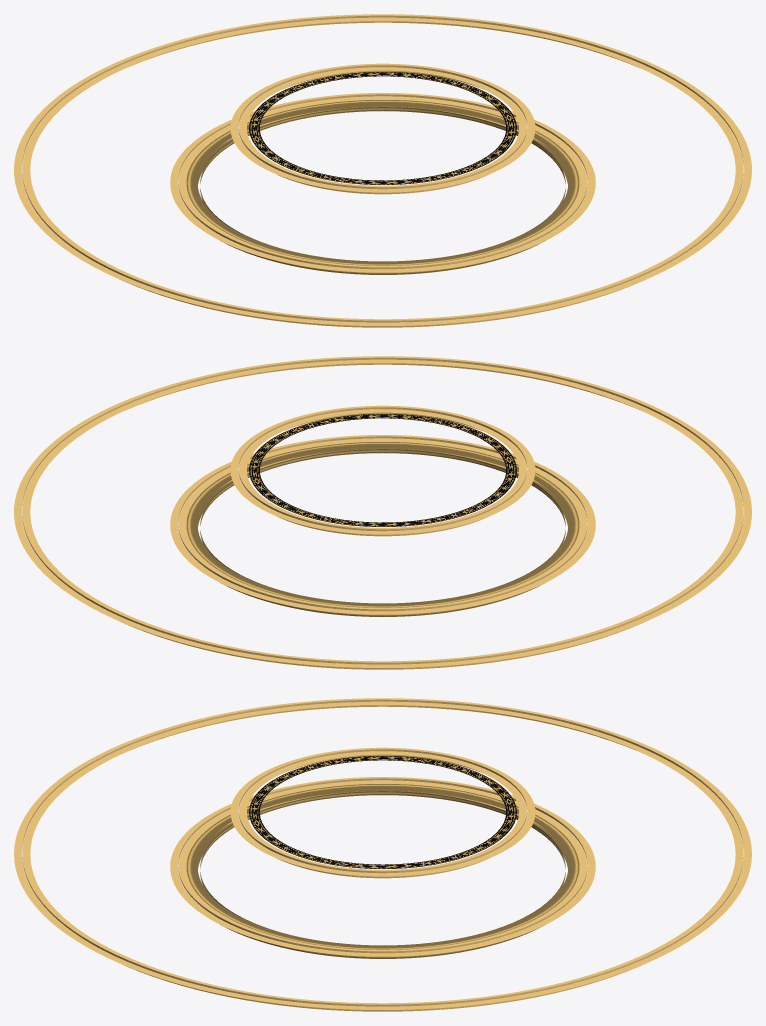
Rendered from floating_pedestal_glow.obj.
3 views of the same model, one above another, from view 1: azimuth 30°, elevation 25°; view 2: azimuth 150°, elevation 25°; view 3: azimuth 270°, elevation 25° (orthographic).
Size of the model in its own units: 34.26 by 3.24 by 34.26.
